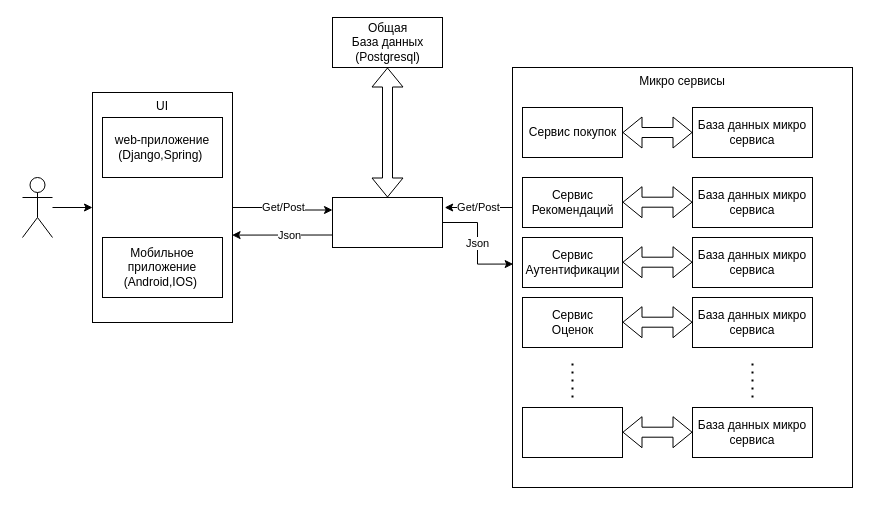
This 870x505 diagram has some shape labels left out. Here are the shapes that lost their labels. From the top down, the centre of each, then its label:
At (x=37, y=207): "Клиент".
At (x=387, y=222): "RESTful API (GO/Python)".
At (x=572, y=432): "Сервис Обратной связи".
